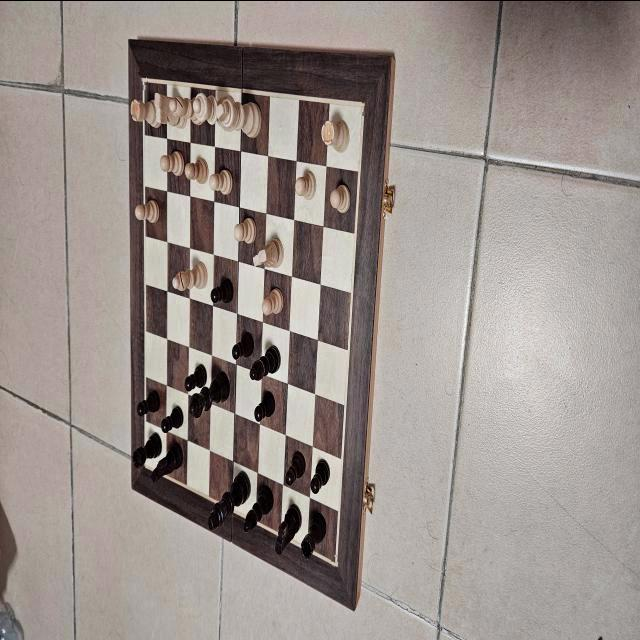chess-table-corners: (139, 70, 149, 90), (357, 96, 367, 114), (331, 554, 338, 568), (143, 463, 147, 470)
